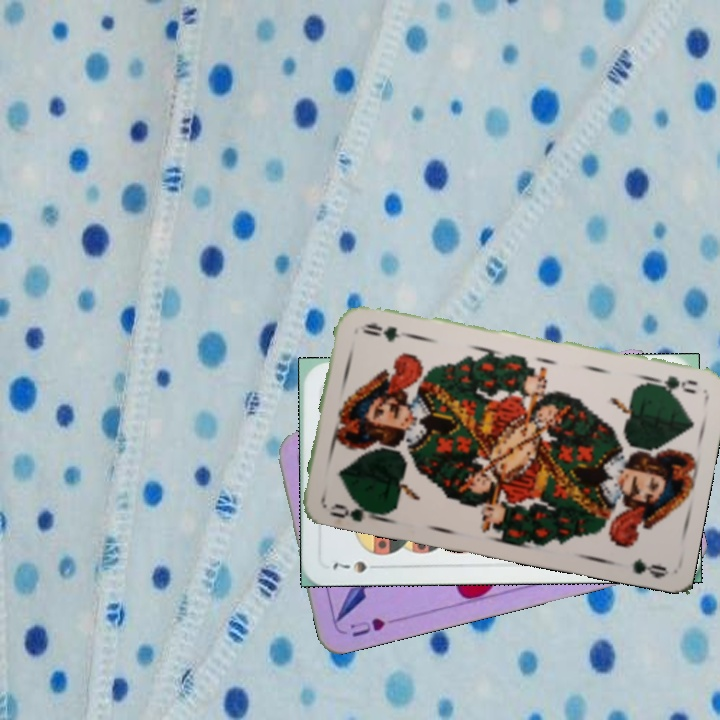GO: (325, 495, 384, 525), (644, 371, 700, 397)
HU: (346, 614, 388, 640)
S7: (329, 555, 385, 575)
